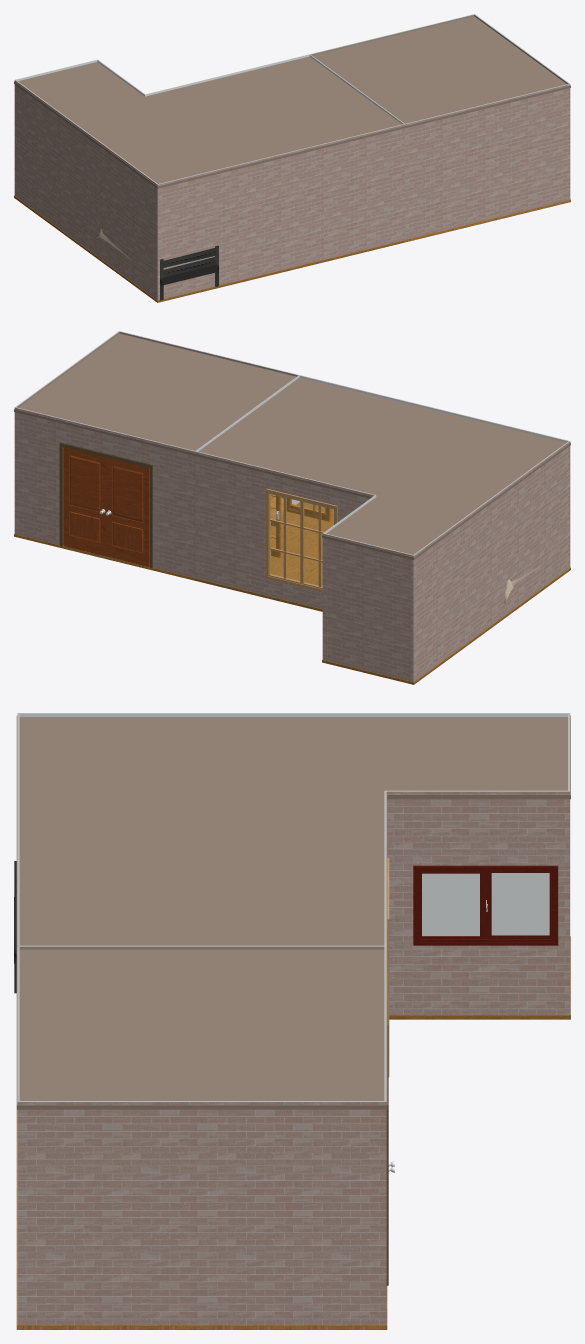
File: ProcTHOR-Train-139.glb
3 renders of one model, top to bottom at view 1: azimuth 30°, elevation 25°; view 2: azimuth 150°, elevation 25°; view 3: azimuth 270°, elevation 25°, orthographic. The views are drawn at different scales.
Parts seen in each view (by area): view 1: Ceiling#room|2|c, WallInside#wall|exterior|3.85|5.78|9.63|5.78, WallInside#wall|exterior|0.00|5.78|3.85|5.78, WallInside#wall|exterior|9.63|0.00|9.63|5.78, Ceiling#room|3|c, Bed_7, Floor#room|2|f, Floor#room|3|f, WallInside#wall|2|3.85|1.93|7.71|1.93, WallInside#wall|3|0.00|1.93|3.85|1.93; view 2: Ceiling#room|2|c, WallInside#wall|exterior|9.63|0.00|9.63|5.78, Ceiling#room|3|c, WallInside#wall|exterior|0.00|1.93|3.85|1.93, WallInside#wall|exterior|3.85|1.93|7.71|1.93, WallInside#wall|exterior|7.71|0.00|9.63|0.00, Doorway_Door_4a, Doorway_Door_4b, Floor#room|2|f, Window_Fixed_60x72, Doorway_Double_4, WallInside#wall|2|3.85|5.78|9.63|5.78 (+3 smaller); view 3: Ceiling#room|2|c, WallInside#wall|exterior|0.00|1.93|0.00|5.78, Ceiling#room|3|c, WallInside#wall|exterior|7.71|0.00|7.71|1.93, WallInside#wall|2|9.63|0.00|9.63|5.78, Window_Slider_60x36, Floor#room|3|f, WallInside#wall|3|3.85|1.93|3.85|5.78, Floor#room|2|f.
Part boxes in pixels (x1,y1,x2,y2): Ceiling#room|2|c: [14, 56, 405, 188]; WallInside#wall|exterior|3.85|5.78|9.63|5.78: [157, 124, 404, 300]; WallInside#wall|exterior|0.00|5.78|3.85|5.78: [405, 84, 570, 239]; WallInside#wall|exterior|9.63|0.00|9.63|5.78: [14, 80, 157, 299]; Ceiling#room|3|c: [310, 16, 570, 128]; Bed_7: [95, 228, 218, 300]; Floor#room|2|f: [14, 195, 405, 302]; Floor#room|3|f: [404, 199, 570, 242]; WallInside#wall|2|3.85|1.93|7.71|1.93: [145, 54, 309, 96]; WallInside#wall|3|0.00|1.93|3.85|1.93: [310, 14, 474, 55]; Ceiling#room|2|c: [194, 377, 570, 559]; WallInside#wall|exterior|9.63|0.00|9.63|5.78: [413, 441, 570, 681]; Ceiling#room|3|c: [14, 333, 296, 455]; WallInside#wall|exterior|0.00|1.93|3.85|1.93: [14, 407, 195, 578]; WallInside#wall|exterior|3.85|1.93|7.71|1.93: [194, 451, 374, 609]; WallInside#wall|exterior|7.71|0.00|9.63|0.00: [322, 533, 413, 681]; Doorway_Door_4a: [106, 457, 149, 566]; Doorway_Door_4b: [63, 447, 106, 556]; Floor#room|2|f: [194, 502, 570, 684]; Window_Fixed_60x72: [265, 488, 337, 592]; Doorway_Double_4: [59, 442, 152, 567]; WallInside#wall|2|3.85|5.78|9.63|5.78: [299, 375, 568, 510]; Ceiling#room|2|c: [16, 715, 570, 949]; WallInside#wall|exterior|0.00|1.93|0.00|5.78: [17, 1101, 386, 1325]; Ceiling#room|3|c: [16, 949, 387, 1109]; WallInside#wall|exterior|7.71|0.00|7.71|1.93: [386, 791, 569, 1014]; WallInside#wall|2|9.63|0.00|9.63|5.78: [18, 713, 568, 936]; Window_Slider_60x36: [413, 865, 558, 945]; Floor#room|3|f: [16, 1169, 387, 1329]; WallInside#wall|3|3.85|1.93|3.85|5.78: [19, 946, 386, 949]; Floor#room|2|f: [16, 936, 570, 1168].
Size of what is drawn, in the model's own units: 9.74 by 2.64 by 5.85.
Materials: 88 (31 with a texture image).
